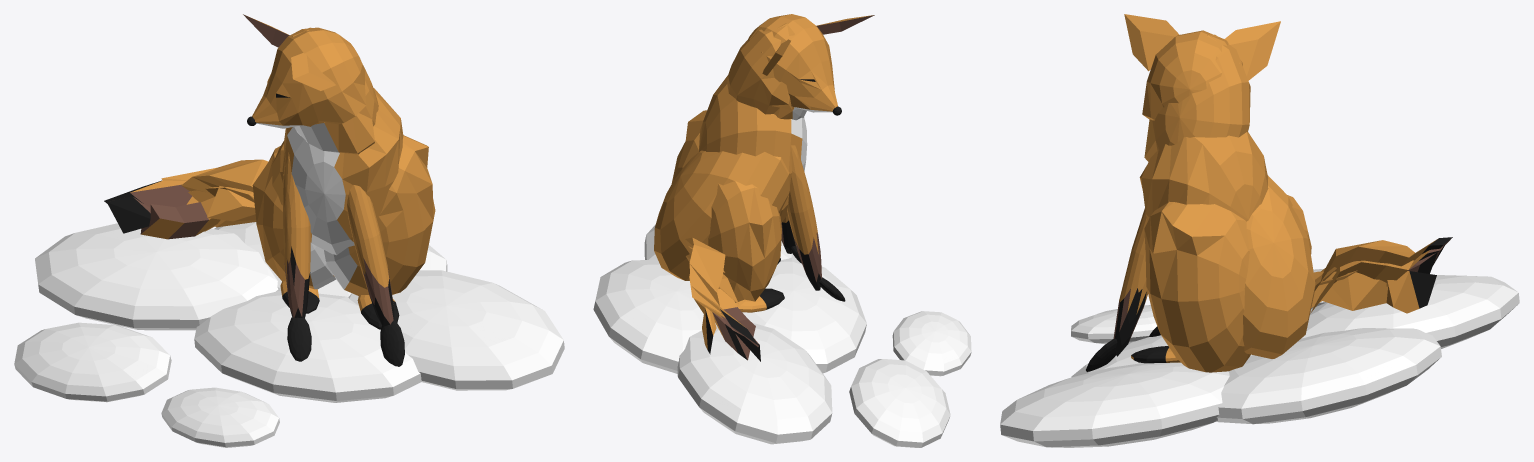
Rendered from fox.obj.
3 views of the same model, side by side, from view 1: azimuth 30°, elevation 25°; view 2: azimuth 150°, elevation 25°; view 3: azimuth 270°, elevation 25° (orthographic). The views are drawn at different scales.
Visible parts, largest first — view 1: group292672434, group757841369, group1937405526, group252756100, group630562865, group1897832069, group505595260, group1270259114, group98992396, group1011068755, group1320418943, group277124041 (+9 smaller); view 2: group292672434, group1198958360, group1359974799, group757841369, group252756100, group277124041, group630562865, group1897832069, group1270259114, group1218120644, group1011068755, group1320418943 (+7 smaller); view 3: group505595260, group1937405526, group1198958360, group1359974799, group630562865, group292672434, group1218120644, group1897832069, group186513244, group98992396, group1320418943, group1720788637 (+6 smaller).
Part boxes in pixels (left/top/right/bottom): group292672434: left=35, top=223, right=278, bottom=330; group757841369: left=194, top=291, right=422, bottom=402; group1937405526: left=348, top=270, right=564, bottom=390; group252756100: left=14, top=322, right=171, bottom=402; group630562865: left=282, top=88, right=403, bottom=255; group1897832069: left=252, top=27, right=366, bottom=128; group505595260: left=324, top=135, right=435, bottom=295; group1270259114: left=161, top=387, right=279, bottom=447; group98992396: left=347, top=185, right=394, bottom=327; group1011068755: left=283, top=147, right=310, bottom=317; group1320418943: left=104, top=159, right=268, bottom=207; group277124041: left=252, top=146, right=335, bottom=289; group292672434: left=677, top=322, right=832, bottom=444; group1198958360: left=593, top=259, right=703, bottom=373; group1359974799: left=654, top=150, right=789, bottom=280; group757841369: left=742, top=257, right=866, bottom=373; group252756100: left=849, top=359, right=950, bottom=447; group277124041: left=708, top=181, right=781, bottom=302; group630562865: left=698, top=75, right=807, bottom=222; group1897832069: left=748, top=14, right=837, bottom=112; group1270259114: left=892, top=311, right=971, bottom=376; group1218120644: left=727, top=23, right=806, bottom=120; group1011068755: left=787, top=145, right=821, bottom=290; group1320418943: left=685, top=237, right=758, bottom=346; group505595260: left=1144, top=201, right=1250, bottom=372; group1937405526: left=1000, top=362, right=1229, bottom=447; group1198958360: left=1216, top=328, right=1441, bottom=424; group1359974799: left=1243, top=175, right=1315, bottom=358; group630562865: left=1139, top=132, right=1268, bottom=221; group292672434: left=1301, top=275, right=1519, bottom=348; group1218120644: left=1144, top=34, right=1250, bottom=161; group1897832069: left=1142, top=30, right=1242, bottom=120; group186513244: left=1311, top=271, right=1436, bottom=313; group98992396: left=1113, top=208, right=1147, bottom=356; group1320418943: left=1314, top=237, right=1452, bottom=290; group1720788637: left=1224, top=21, right=1280, bottom=80.
Bounding box in the file's own units: 1.33 × 1.1 × 1.4.
